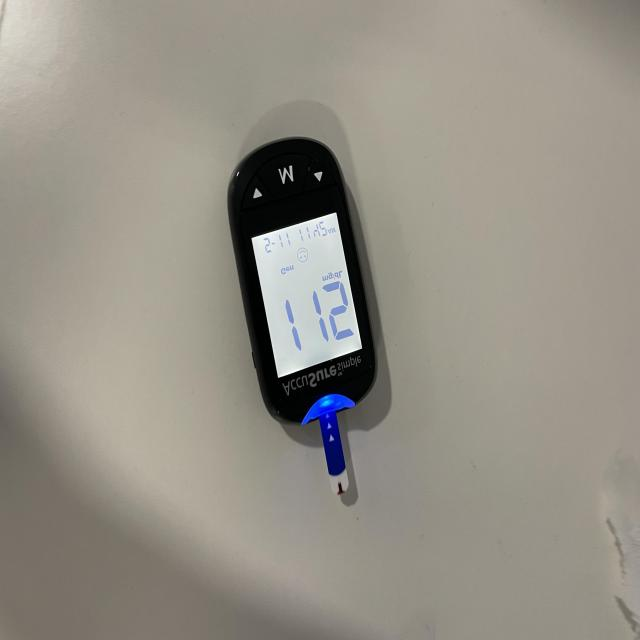gluco: (228, 133, 380, 492)
